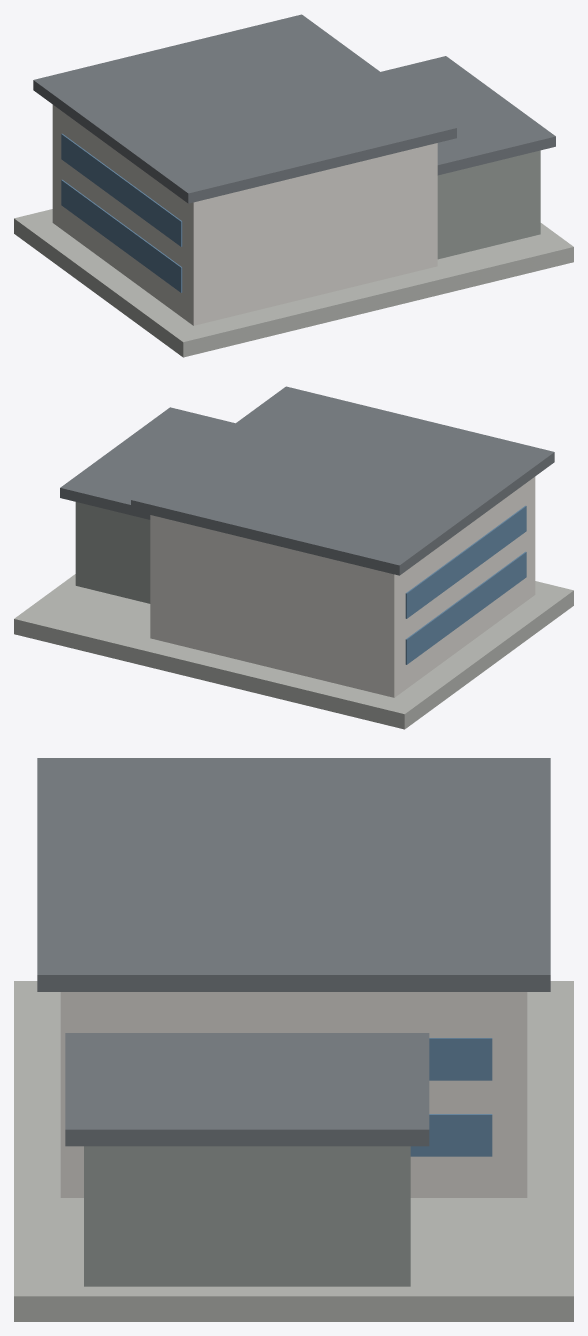
Rendered from villa_modern_estate.glb.
3 renders of one model, top to bottom at view 1: azimuth 30°, elevation 25°; view 2: azimuth 150°, elevation 25°; view 3: azimuth 270°, elevation 25°, orthographic. The views are drawn at different scales.
Visible parts, largest first — view 1: villa_modern_estate; view 2: villa_modern_estate; view 3: villa_modern_estate.
Boxes of the visible parts, x1,y1,x2,y2 form: villa_modern_estate: [14, 14, 573, 357]; villa_modern_estate: [14, 386, 573, 729]; villa_modern_estate: [14, 758, 573, 1321].
Bounding box in the file's own units: 16 × 6.1 × 12.
